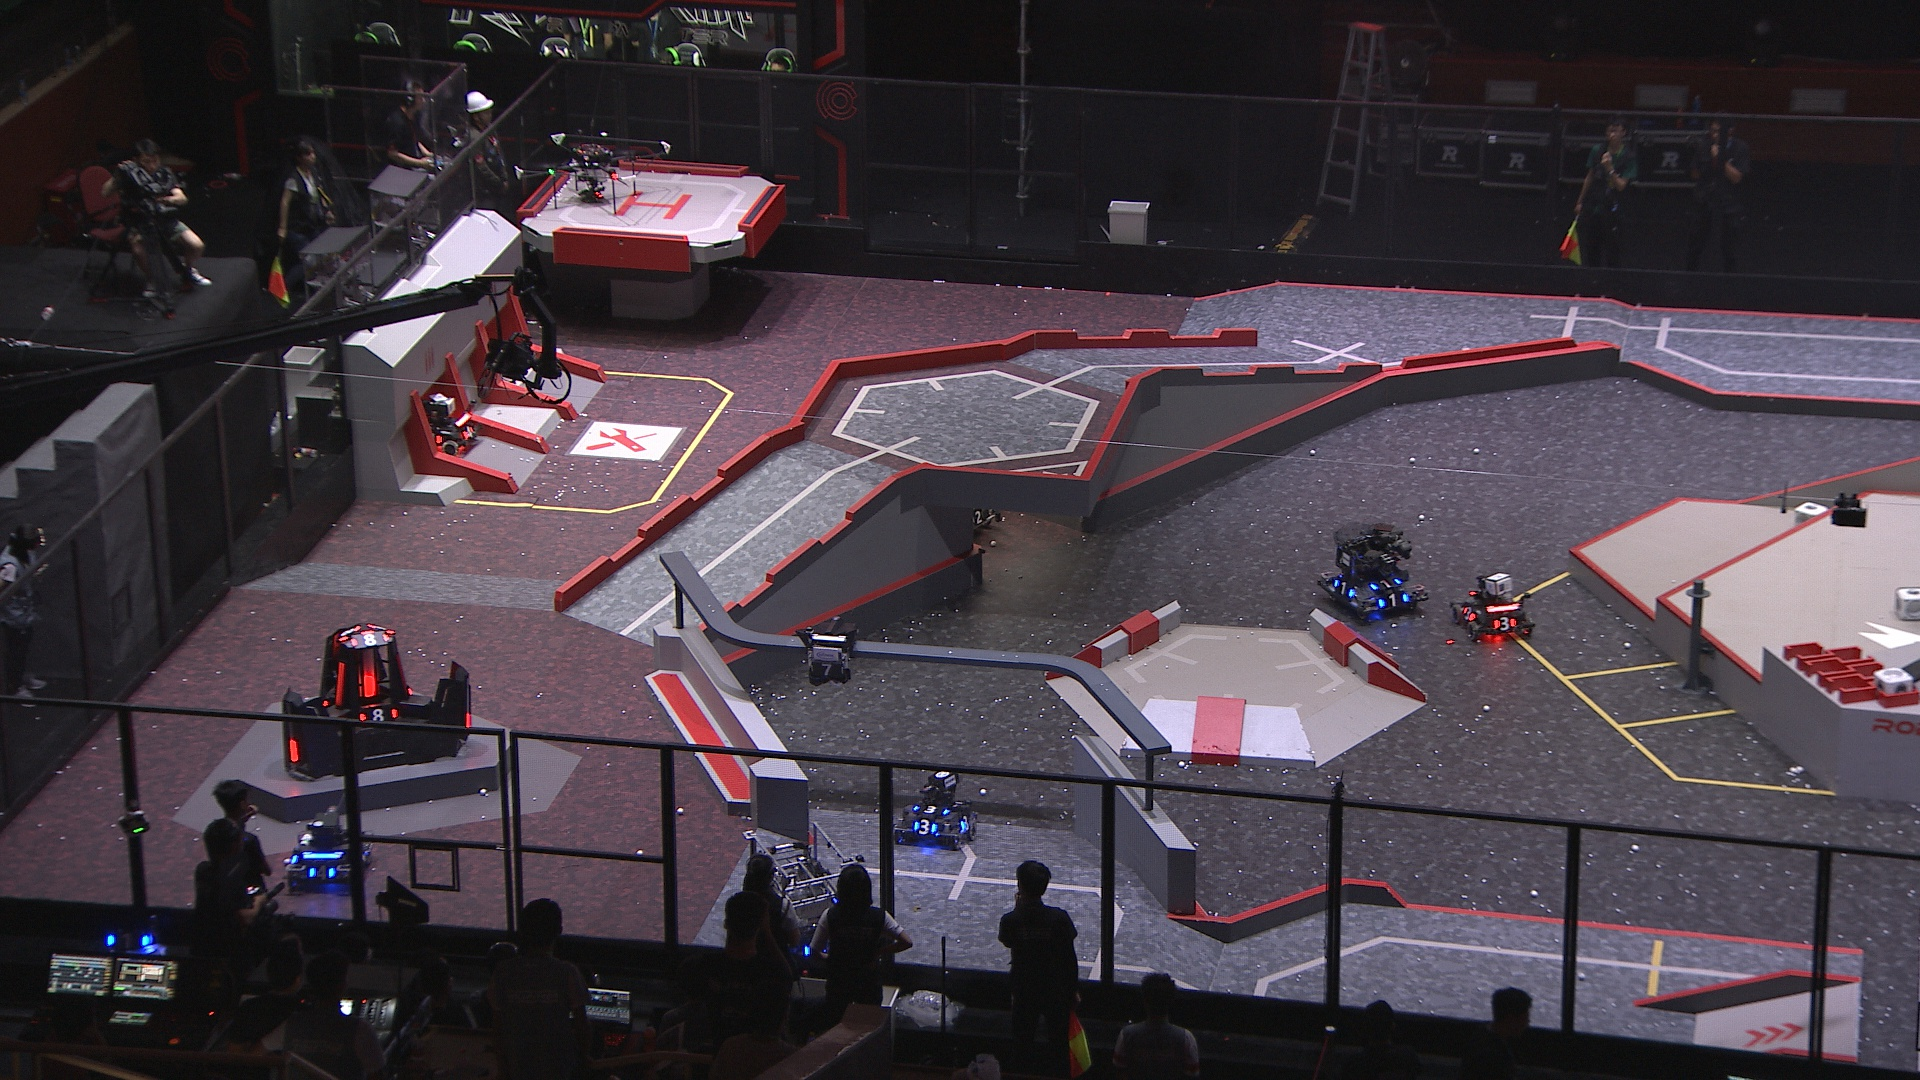armor: (349, 628, 392, 646), (357, 708, 400, 727), (1375, 591, 1410, 611), (334, 659, 348, 705), (357, 670, 377, 702), (913, 803, 951, 818), (814, 659, 843, 678), (913, 818, 939, 837), (306, 864, 338, 880), (1367, 578, 1403, 591), (1490, 616, 1516, 633), (1333, 579, 1356, 599), (286, 736, 299, 764), (1460, 604, 1477, 624), (458, 425, 476, 442), (969, 509, 986, 527), (957, 815, 973, 835), (463, 709, 475, 728)
base: (281, 621, 477, 779)
car: (738, 822, 869, 967), (1317, 520, 1427, 624), (907, 439, 1004, 541), (282, 808, 376, 894), (891, 771, 978, 849), (1451, 575, 1534, 644), (404, 394, 479, 458)
watcher: (799, 618, 858, 684)
